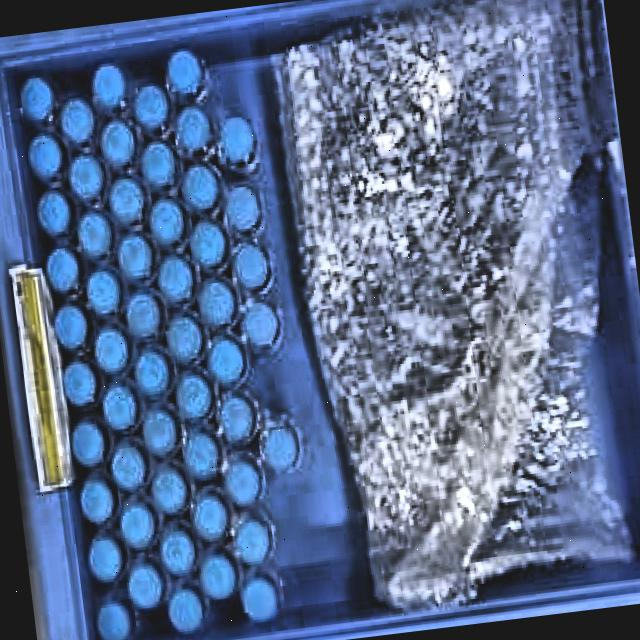vial: (233, 515, 274, 568), (204, 333, 244, 387), (260, 419, 300, 473), (154, 526, 197, 576), (240, 300, 280, 352), (219, 115, 257, 169), (218, 392, 256, 446), (111, 440, 147, 496), (68, 150, 106, 202), (149, 466, 187, 518), (162, 49, 204, 96), (198, 281, 238, 330), (139, 407, 179, 456), (164, 313, 203, 363), (225, 456, 261, 510), (85, 534, 122, 586), (225, 185, 263, 235), (156, 256, 195, 304), (175, 373, 213, 422), (125, 561, 162, 610), (116, 234, 154, 281), (196, 551, 234, 598), (91, 61, 126, 112), (35, 191, 72, 239), (85, 268, 122, 316), (75, 210, 111, 259), (182, 165, 220, 211), (58, 96, 95, 143), (190, 221, 227, 268), (183, 433, 220, 480), (18, 75, 54, 123), (119, 503, 155, 551), (148, 197, 183, 246), (242, 576, 279, 622), (99, 118, 135, 165), (44, 247, 80, 294), (168, 589, 206, 633), (27, 132, 62, 179), (109, 177, 143, 225), (71, 418, 105, 466), (193, 494, 227, 542), (79, 477, 113, 525), (51, 304, 88, 348), (175, 107, 211, 152), (234, 244, 270, 289), (101, 385, 137, 429), (134, 86, 169, 130), (62, 362, 97, 405), (141, 142, 175, 186), (124, 293, 158, 336), (134, 353, 168, 396), (94, 329, 127, 372), (96, 603, 130, 640)
